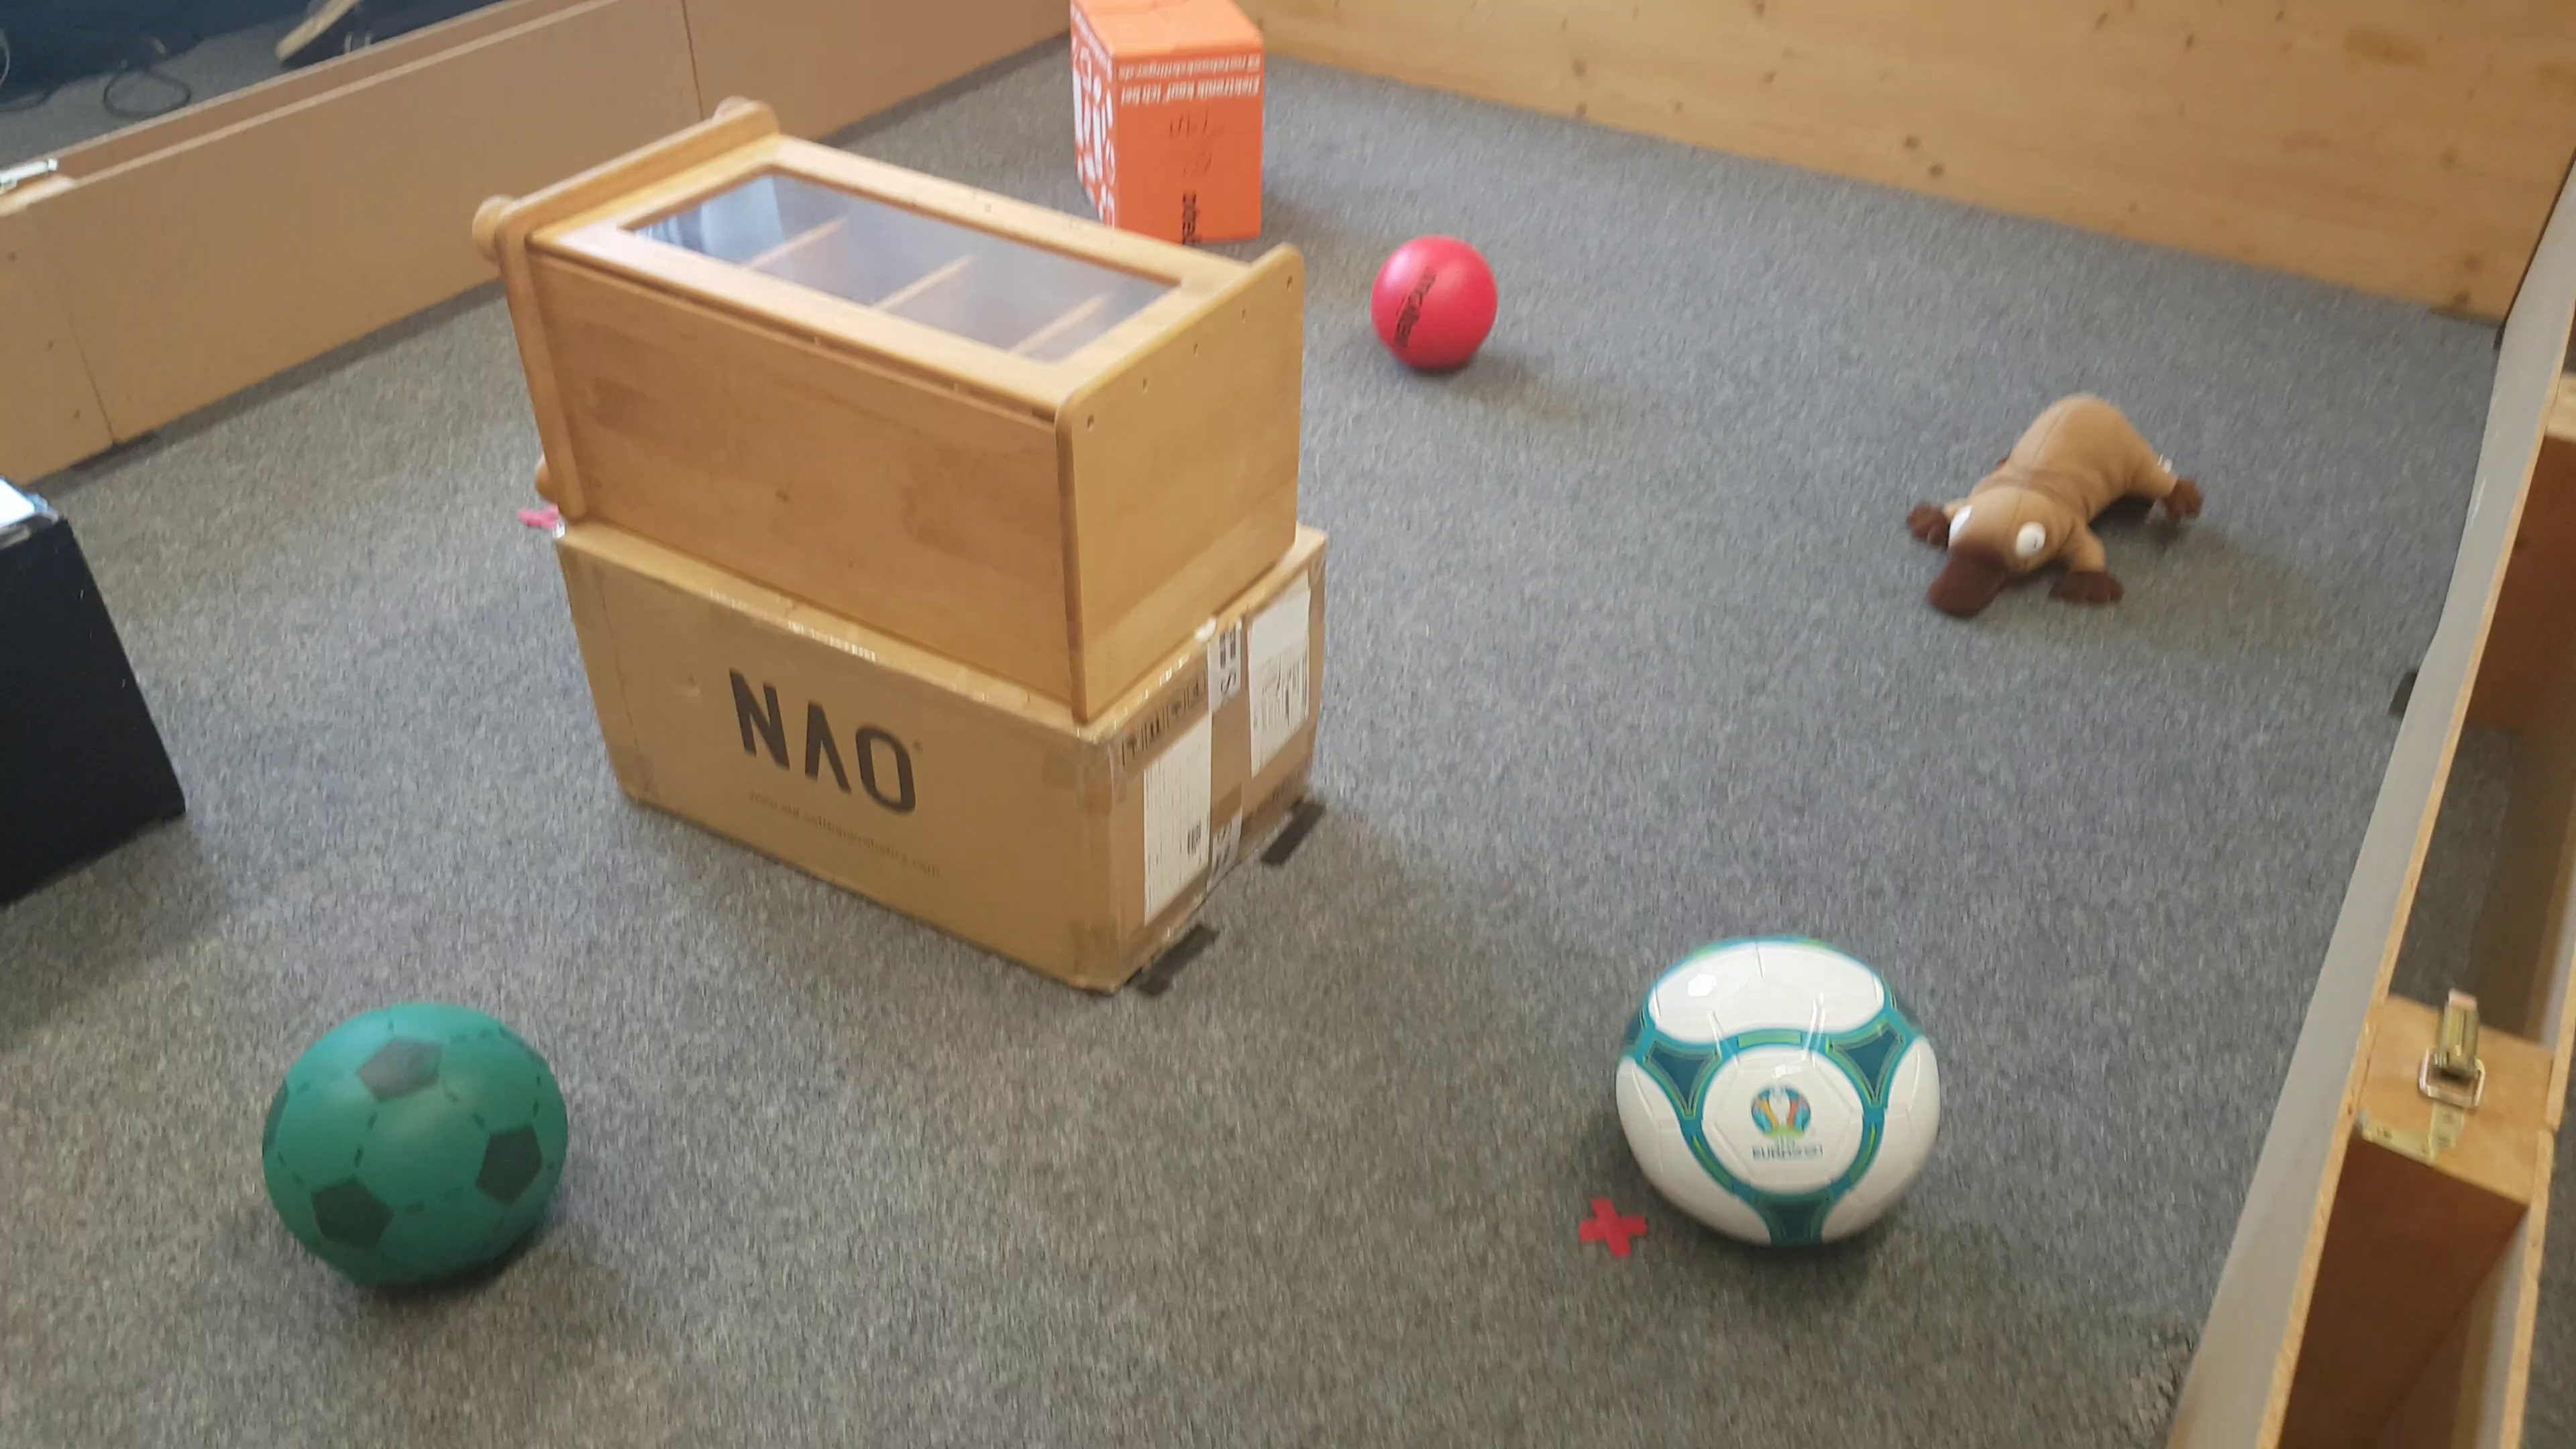grasp: (1902, 389, 2199, 628)
kick: (1621, 936, 1943, 1260), (260, 996, 571, 1293), (1375, 234, 1500, 375)
push: (4, 492, 186, 906), (1072, 4, 1270, 221)
